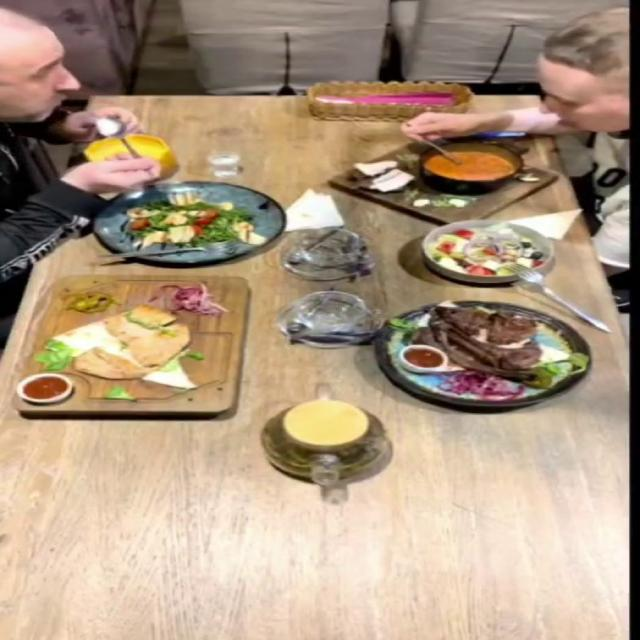alcohol: (201, 151, 266, 178)
meat: (372, 299, 592, 406)
salat: (90, 180, 284, 264), (422, 219, 558, 284)
soup: (327, 137, 561, 226), (83, 133, 178, 180)
tea: (282, 399, 369, 446)
